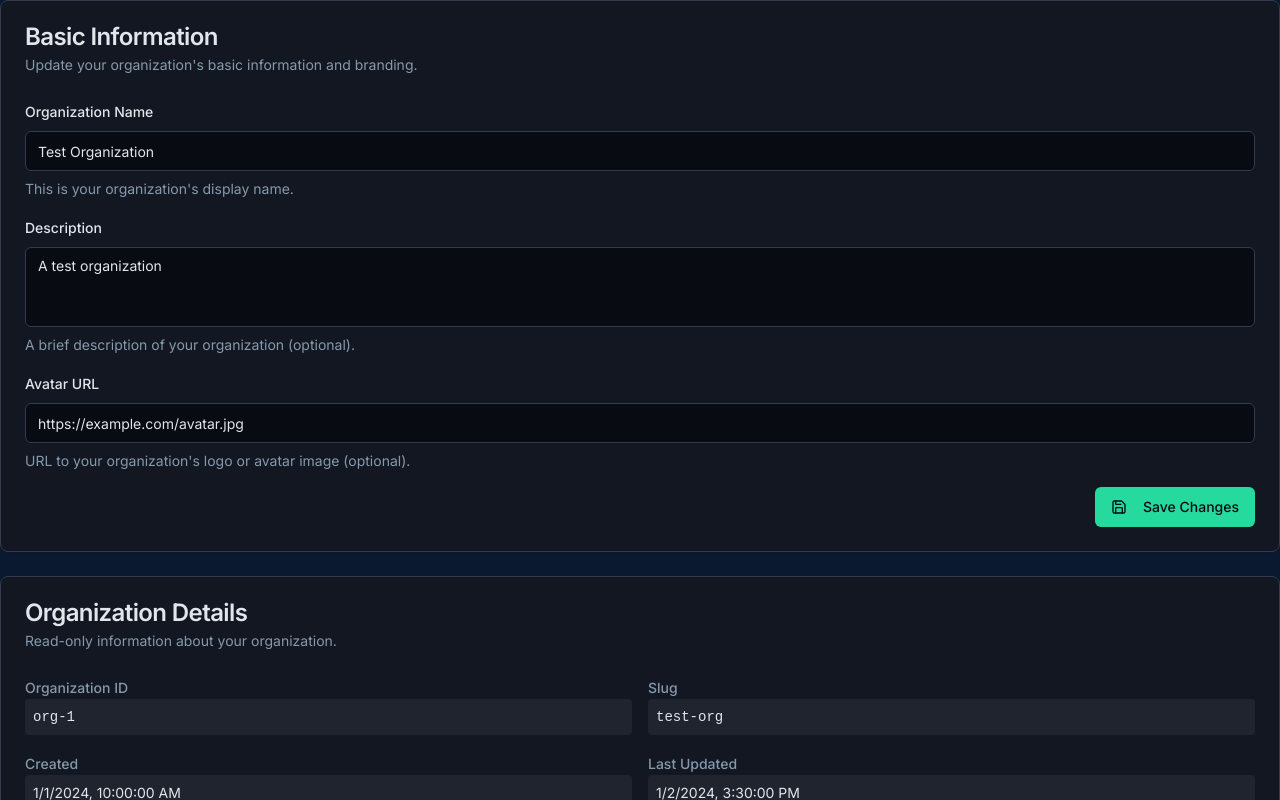
Test case: OrganizationSettings › validates form fields
The width and height of the screenshot is (1280, 800).
Note: Clear the name field (required)
Step 1. Clear the field showing "Test Organization" → (640, 151), box [25, 131, 1255, 171]
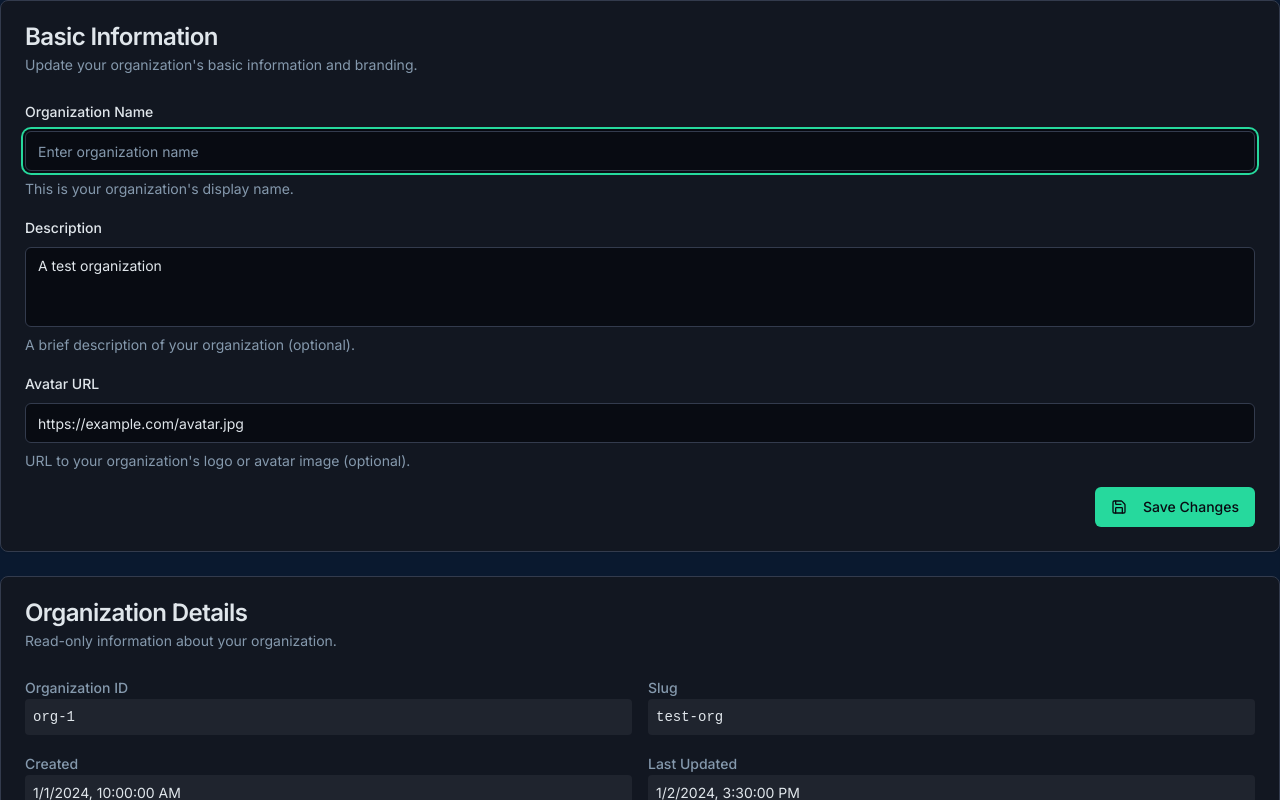
Note: Try to submit
Step 2. Click the button "Save Changes" → (1175, 507), box [1095, 487, 1255, 527]
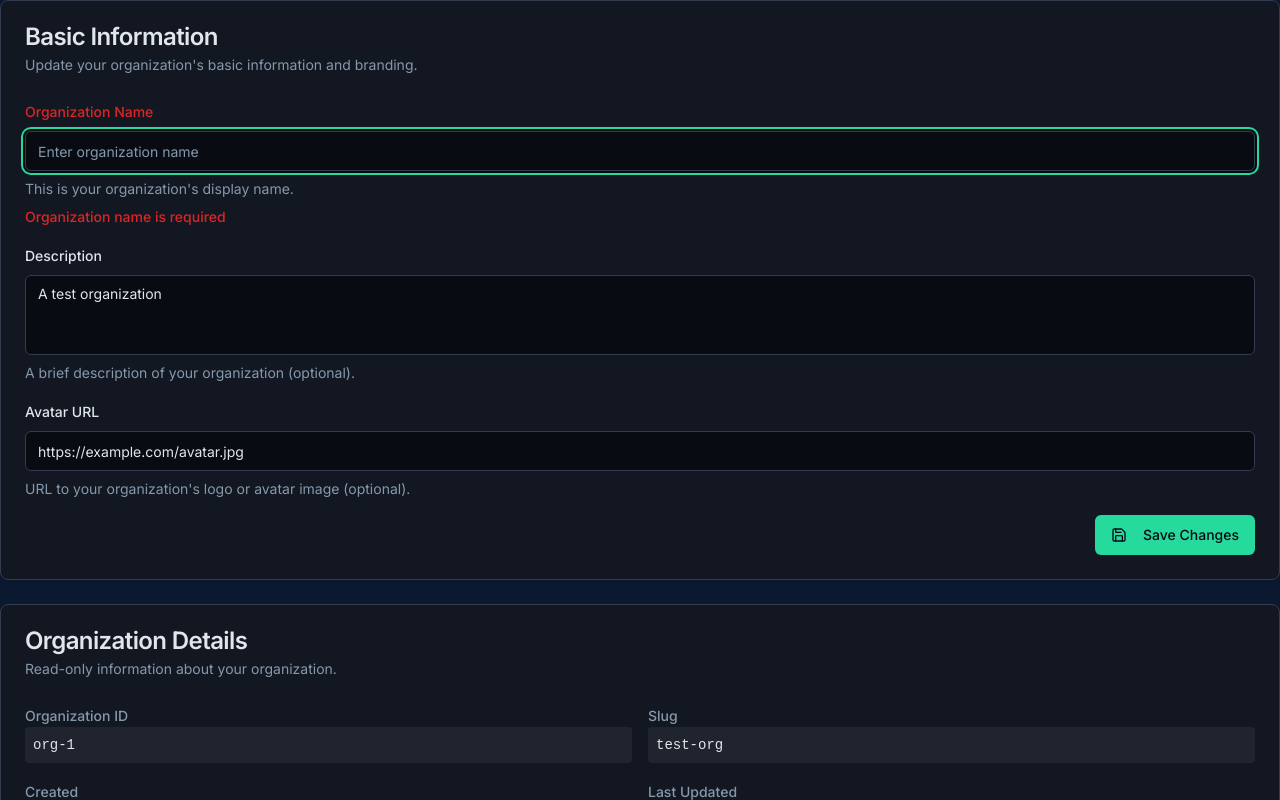
Expected: the text "Organization name is required" is shown, [25, 208, 226, 225]
